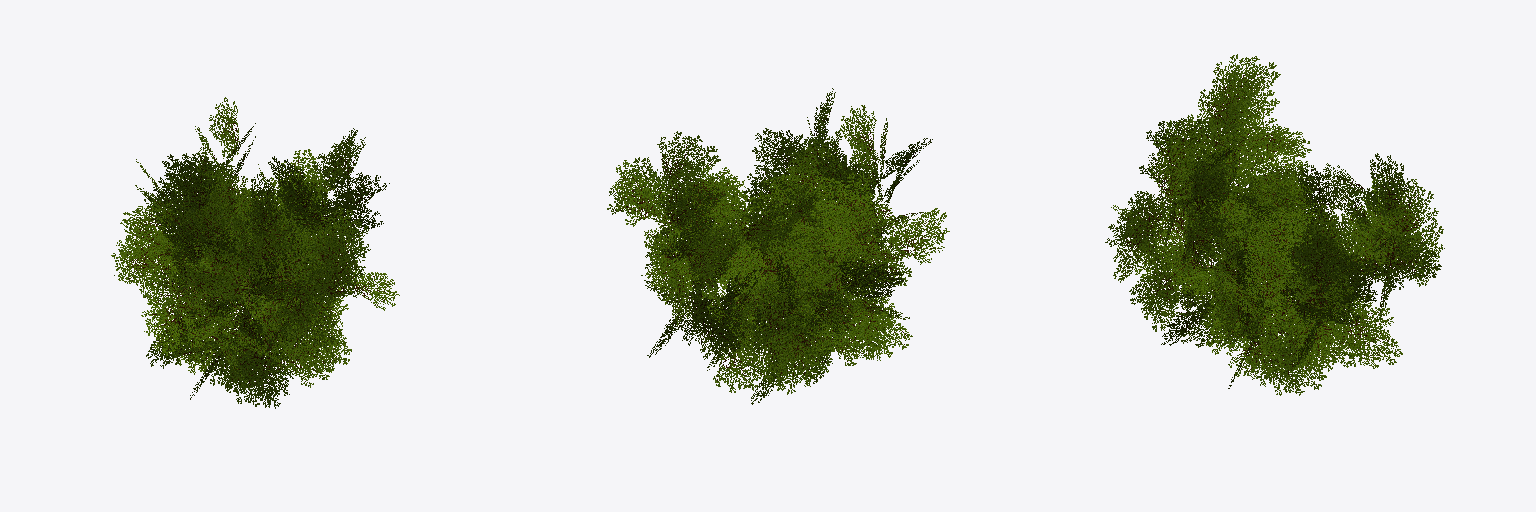
3 views of the same model, side by side, from view 1: azimuth 30°, elevation 25°; view 2: azimuth 150°, elevation 25°; view 3: azimuth 270°, elevation 25° (orthographic).
Visible parts, largest first — view 1: leaves; view 2: leaves; view 3: leaves.
Boxes of the visible parts, x1=… form: leaves: x1=111, y1=97, x2=399, y2=408; leaves: x1=607, y1=88, x2=949, y2=404; leaves: x1=1105, y1=54, x2=1444, y2=395.
Size of the model in its own units: 26.62 by 25.51 by 28.73.
Materials: 2 (2 with a texture image).